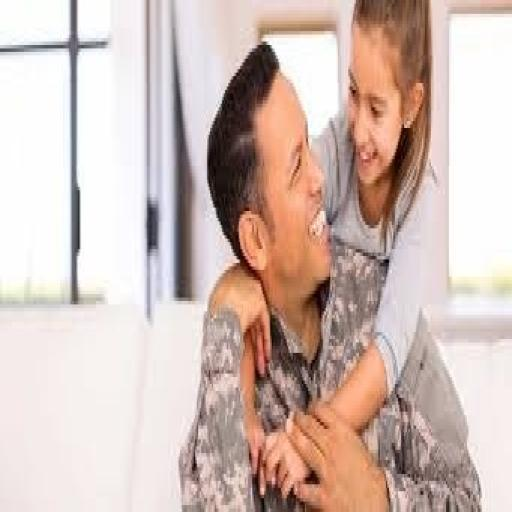hugging: (177, 4, 484, 508)
